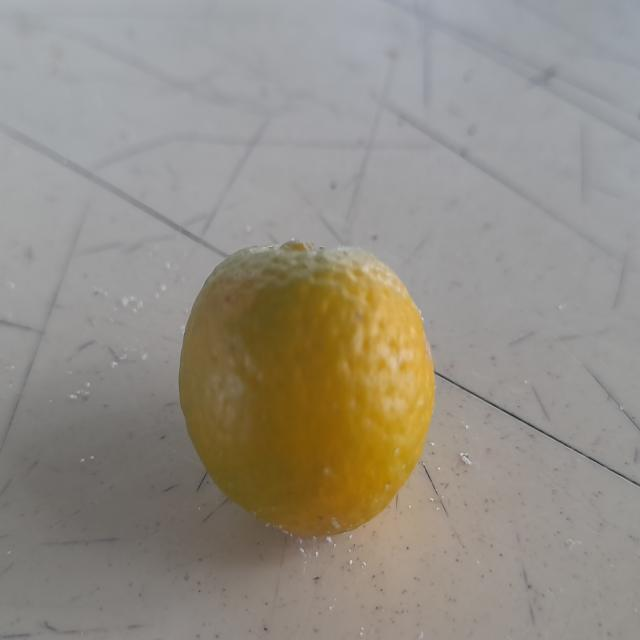greening: (160, 237, 450, 538)
